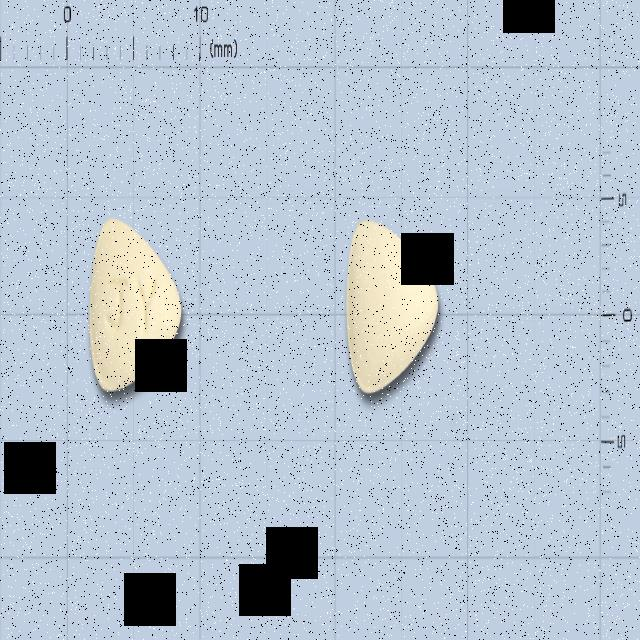Durova - 20mg: (87, 214, 183, 394)
